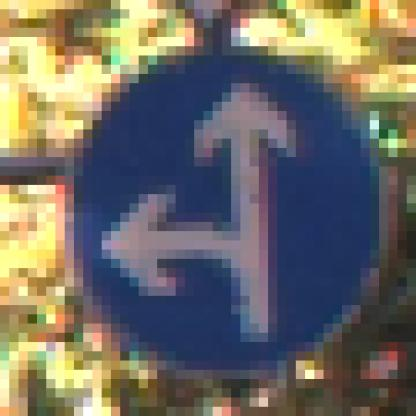Straight or Left: (56, 47, 371, 371)
